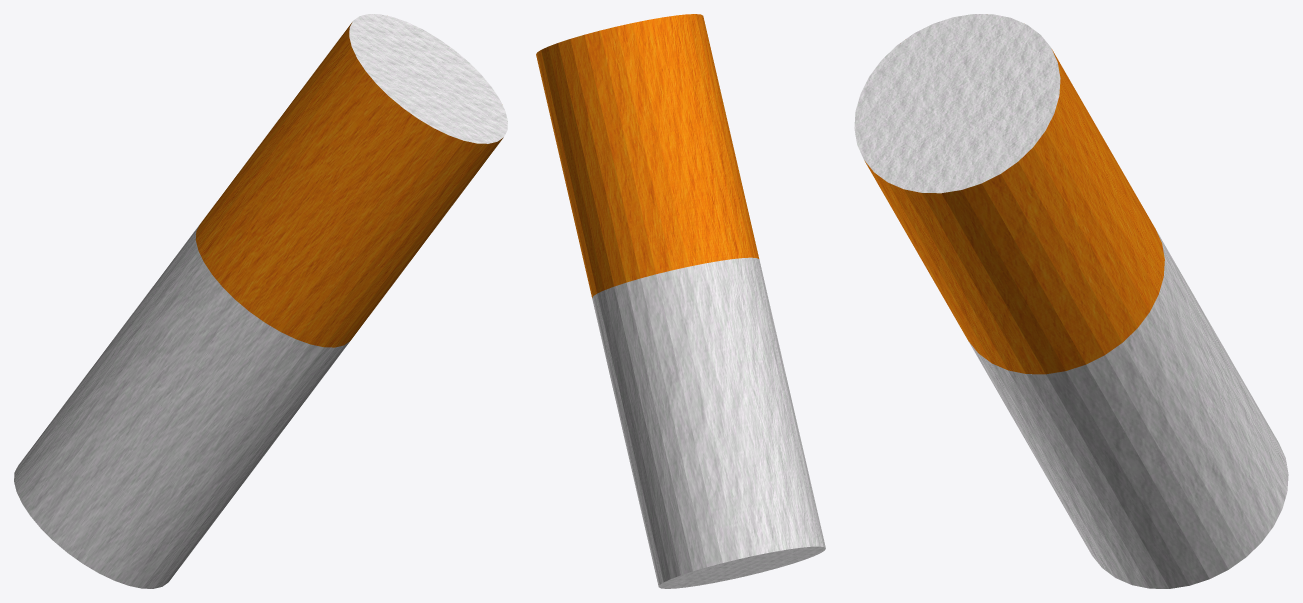
The model's file is cigarette_butt.glb.
3 renders of one model, left to right at view 1: azimuth 30°, elevation 25°; view 2: azimuth 150°, elevation 25°; view 3: azimuth 270°, elevation 25°, orthographic. The views are drawn at different scales.
Parts seen in each view (by area): view 1: CigaretteButtMesh; view 2: CigaretteButtMesh; view 3: CigaretteButtMesh.
Boxes of the visible parts, <box> form: CigaretteButtMesh: <box>14,14,507,588</box>; CigaretteButtMesh: <box>536,14,825,588</box>; CigaretteButtMesh: <box>854,14,1288,588</box>.
Size of the model in its own units: 0.0116 by 0.0161 by 0.00994.
2 materials, 2 textured.
